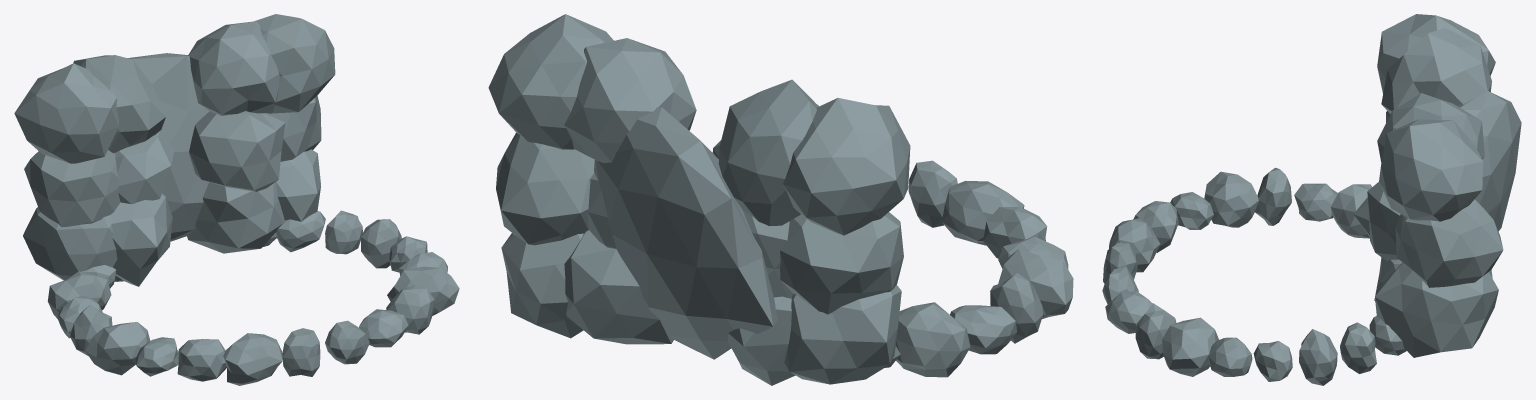
The model's file is SM_WF_Rockwork.fbx.
3 views of the same model, side by side, from view 1: azimuth 30°, elevation 25°; view 2: azimuth 150°, elevation 25°; view 3: azimuth 270°, elevation 25° (orthographic). The views are drawn at different scales.
Visible parts, largest first — view 1: SM_WF_Rockwork; view 2: SM_WF_Rockwork; view 3: SM_WF_Rockwork.
Part boxes in pixels (left/top/right/bottom): SM_WF_Rockwork: left=14, top=14, right=459, bottom=385; SM_WF_Rockwork: left=488, top=14, right=1073, bottom=385; SM_WF_Rockwork: left=1102, top=14, right=1521, bottom=385.
Size of the model in its own units: 449 by 433 by 276.
